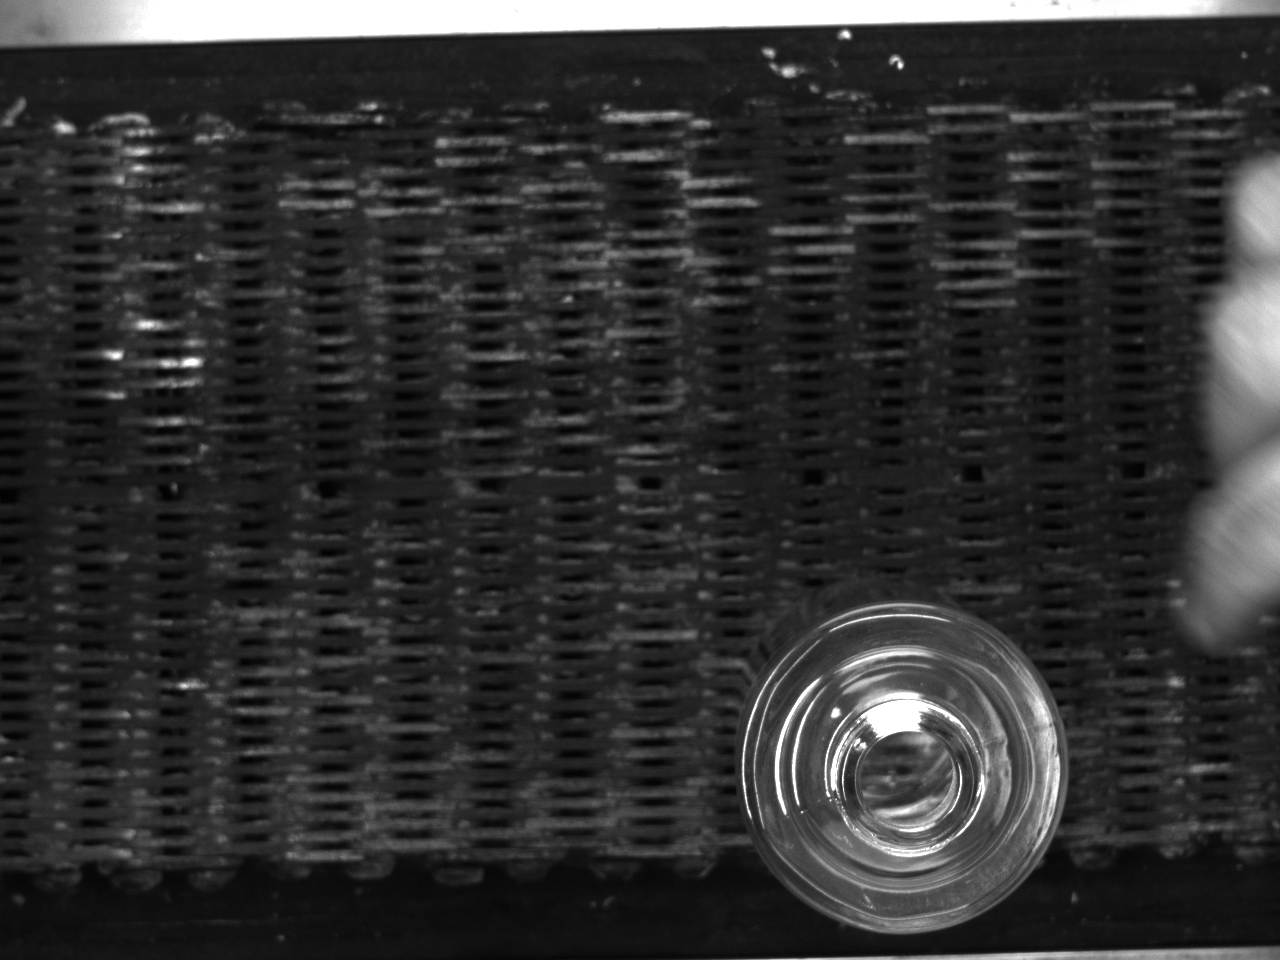bottleneck: (833, 699, 987, 857)
